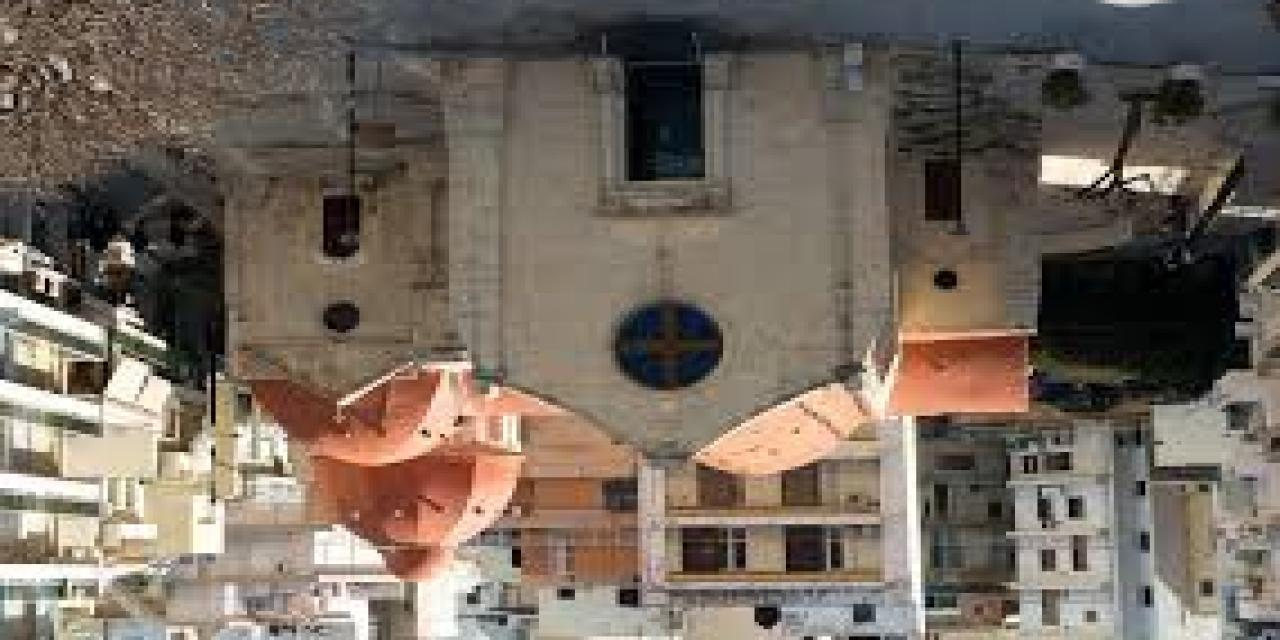Agia Aikaterini: (233, 52, 1049, 585)
